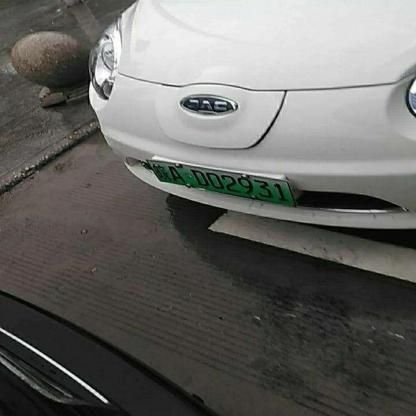lp: (147, 160, 296, 205)
